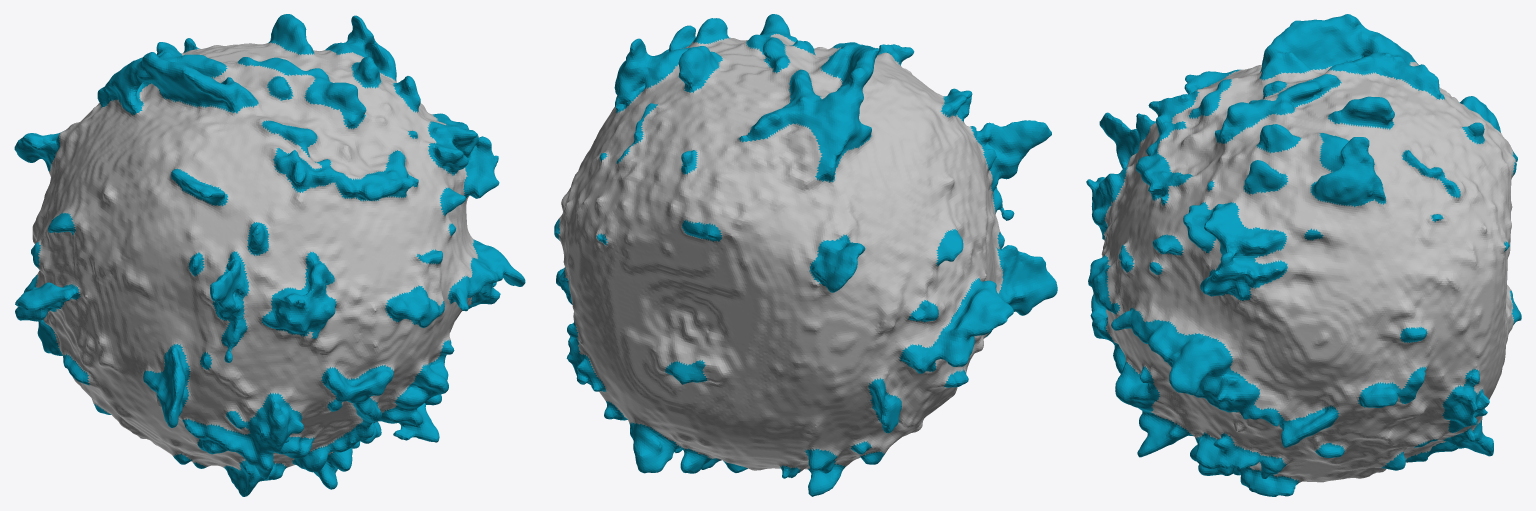
The picture shows the model from 3 angles, left to right: view 1: azimuth 30°, elevation 25°; view 2: azimuth 150°, elevation 25°; view 3: azimuth 270°, elevation 25°; orthographic projection. The views are drawn at different scales.
Bounding box in the file's own units: 167 × 155 × 149.
